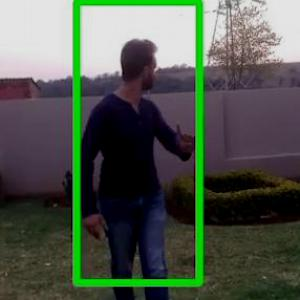takeoff-hand: (166, 116, 208, 158)
